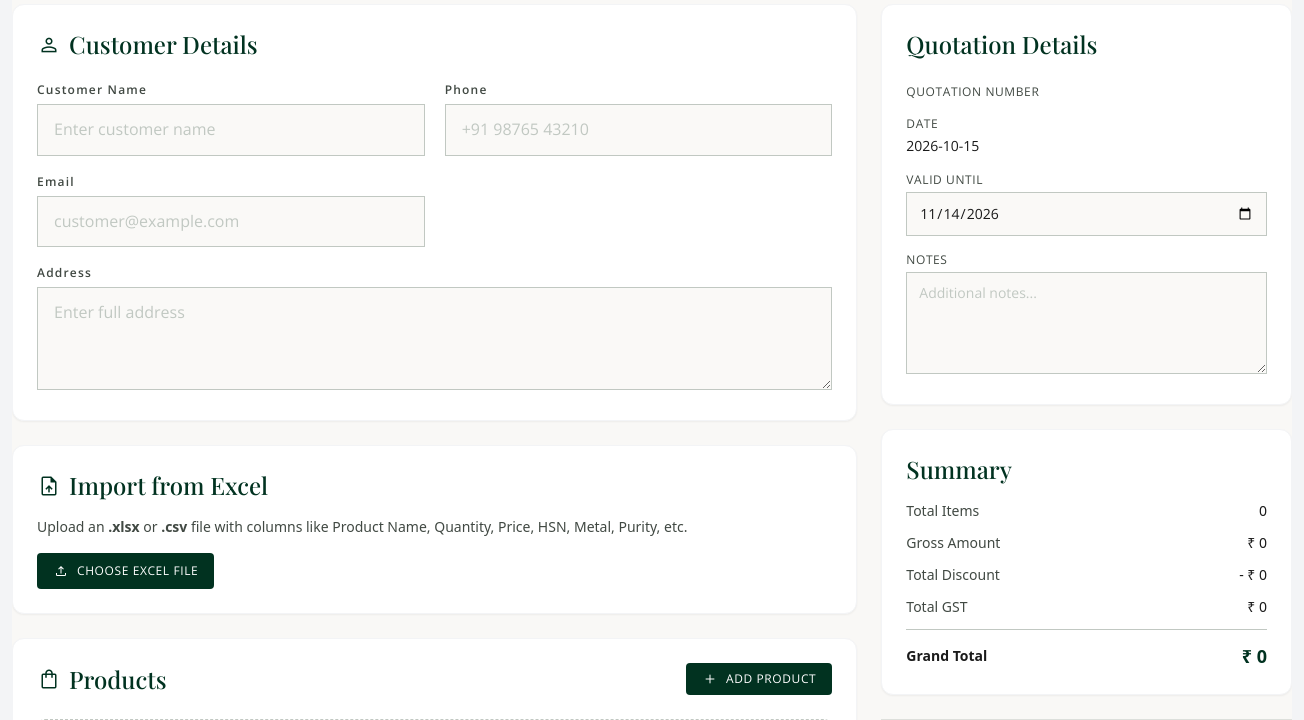
Admin Create Quotation › SKU Lookup › auto-populates product details when a valid SKU is entered
Step 1. Click the button "Add Product" → x=759, y=679, box [686,663,832,695]
(page scrolled)
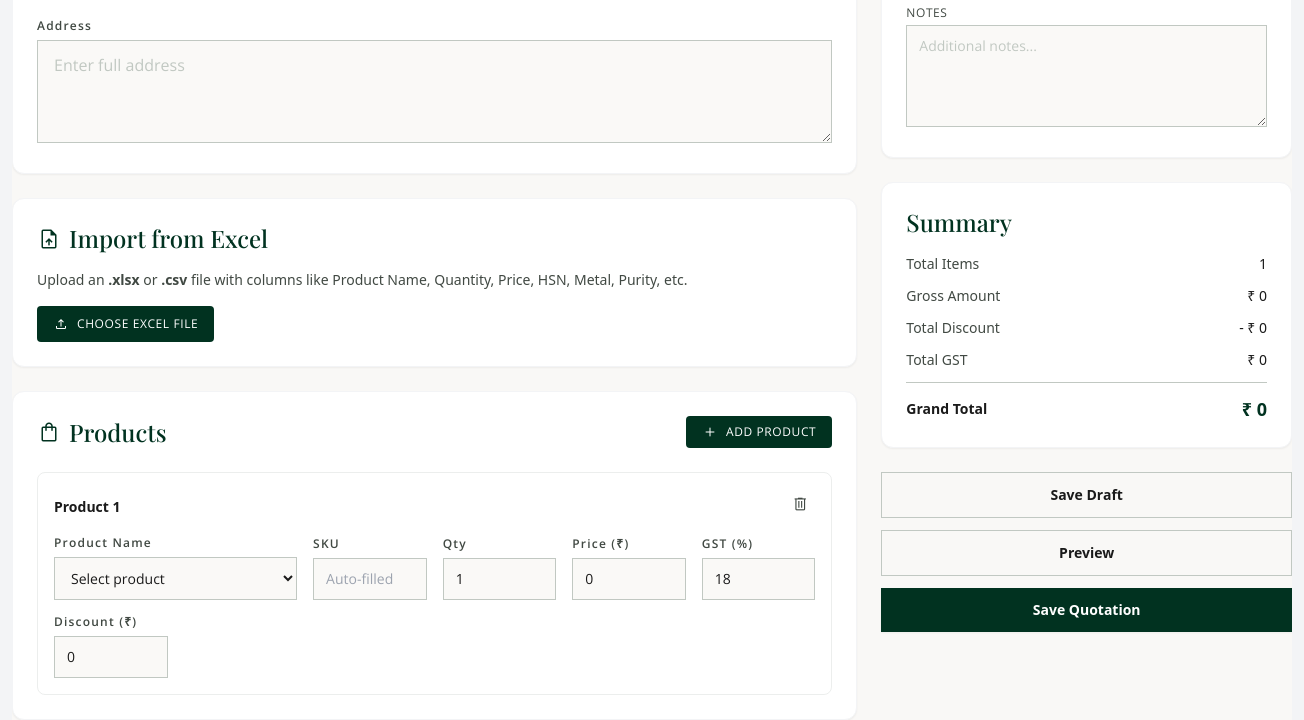
Step 2. Type "SKU009" into the field with placeholder "Auto-filled" → x=370, y=579, box [313,558,427,600]
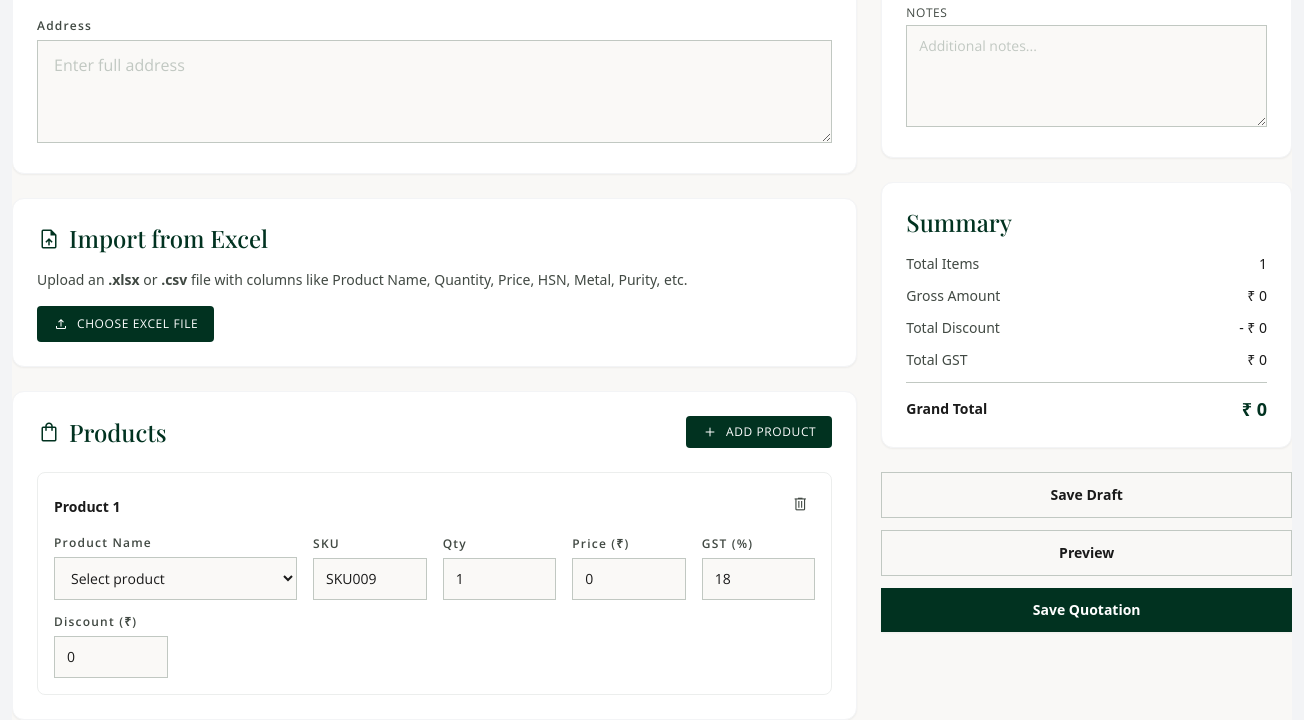
Step 3. Leave the field with placeholder "Auto-filled", box [313,558,427,600]
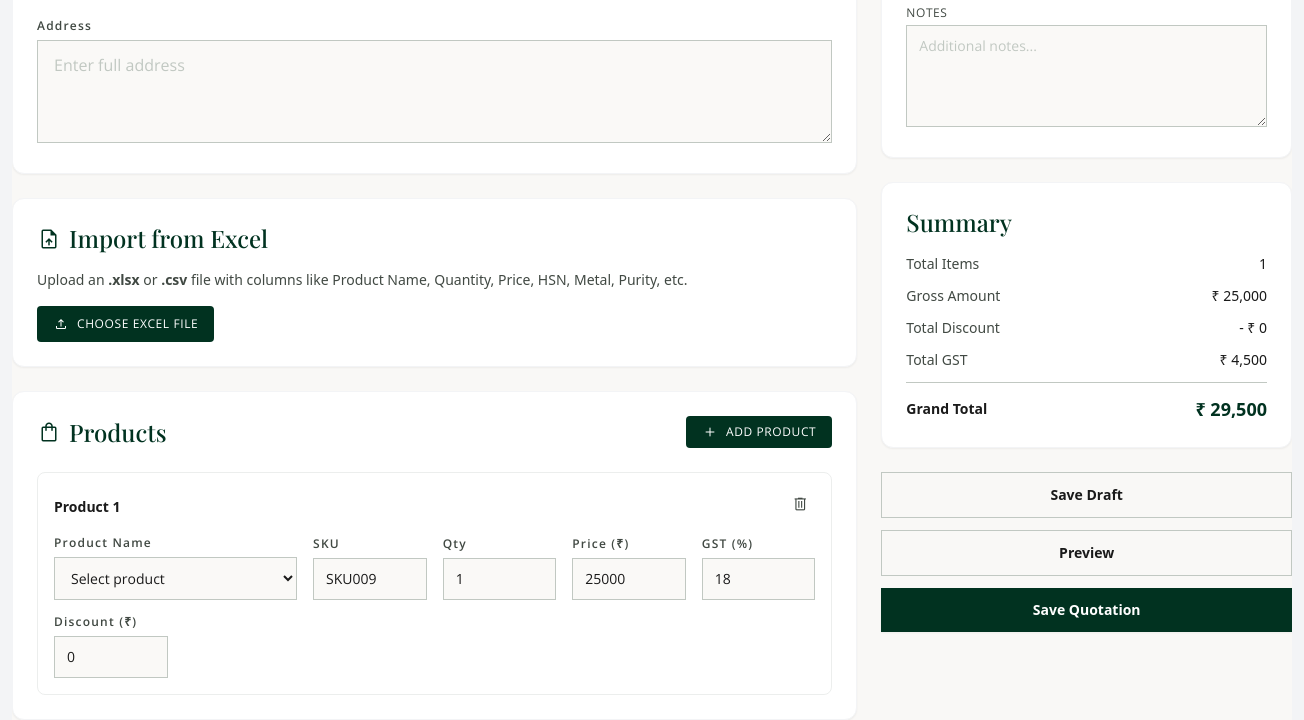
Expected: the number field with placeholder "Auto-filled" below "Price (₹)" holds "25000", [572,558,686,600]
